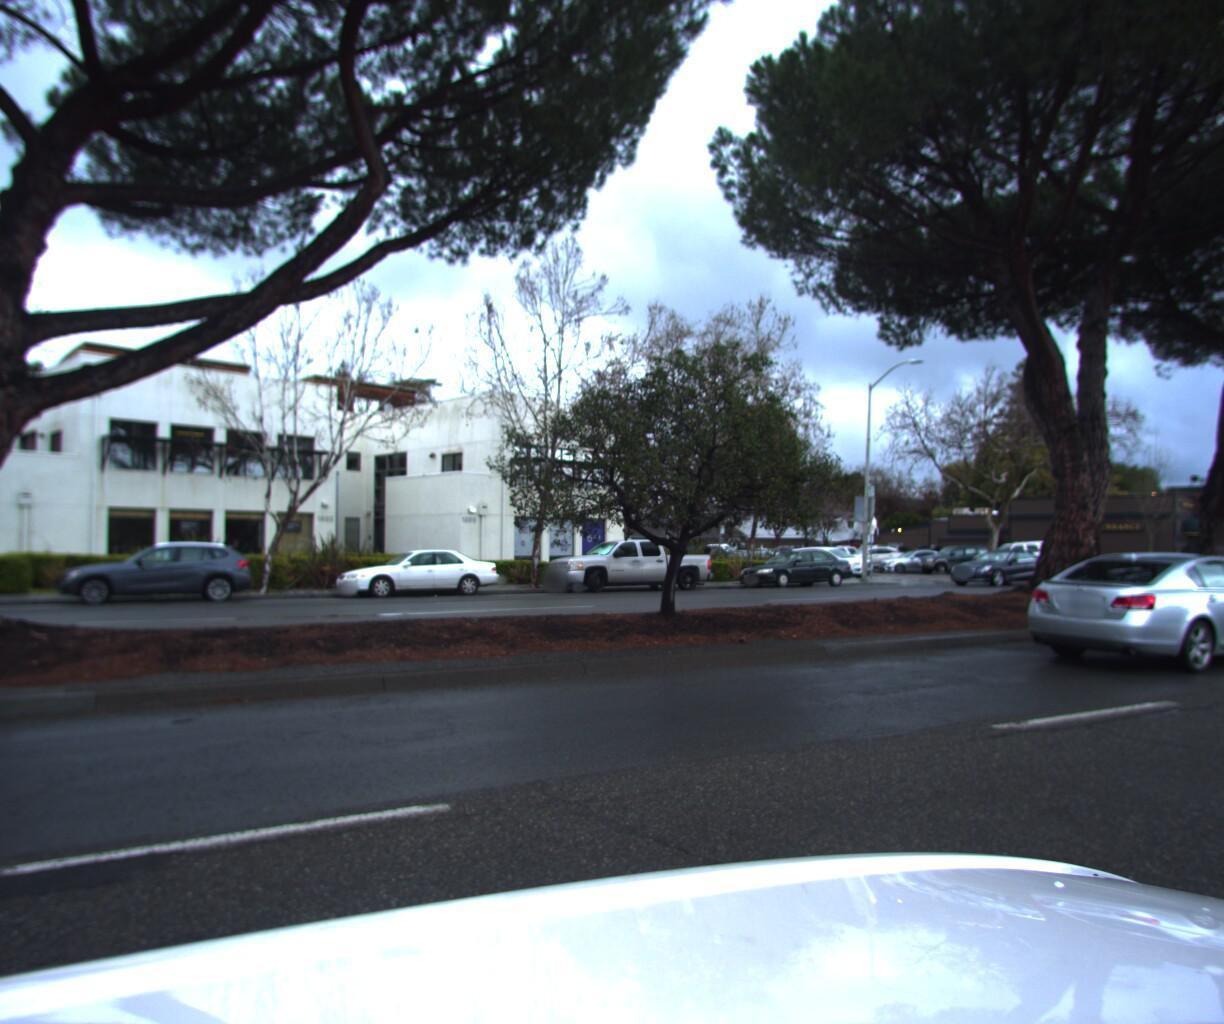car: (995, 535, 1224, 682), (54, 539, 259, 616), (537, 532, 715, 598), (326, 544, 506, 605), (726, 542, 854, 586), (939, 538, 1056, 578), (774, 537, 873, 574), (959, 530, 1058, 564), (908, 534, 990, 566), (868, 538, 951, 565), (827, 537, 906, 563), (789, 537, 858, 563)
